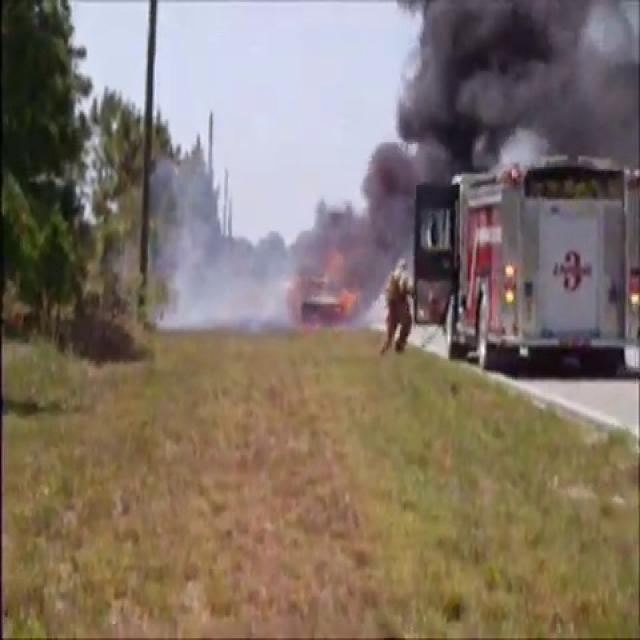Smoke: (378, 1, 640, 191), (158, 178, 308, 333)
